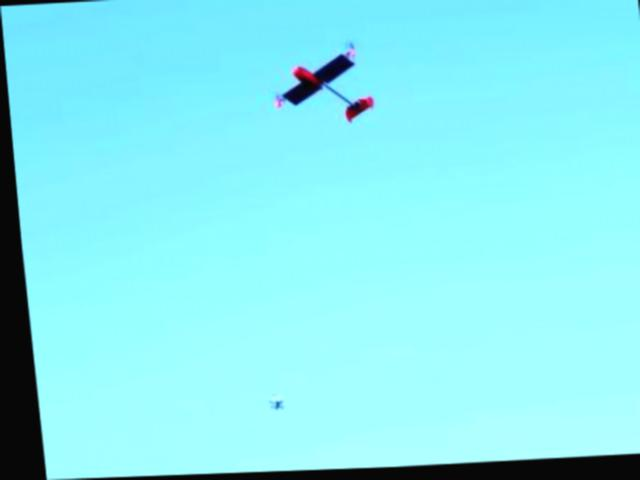uav: (263, 35, 385, 134)
